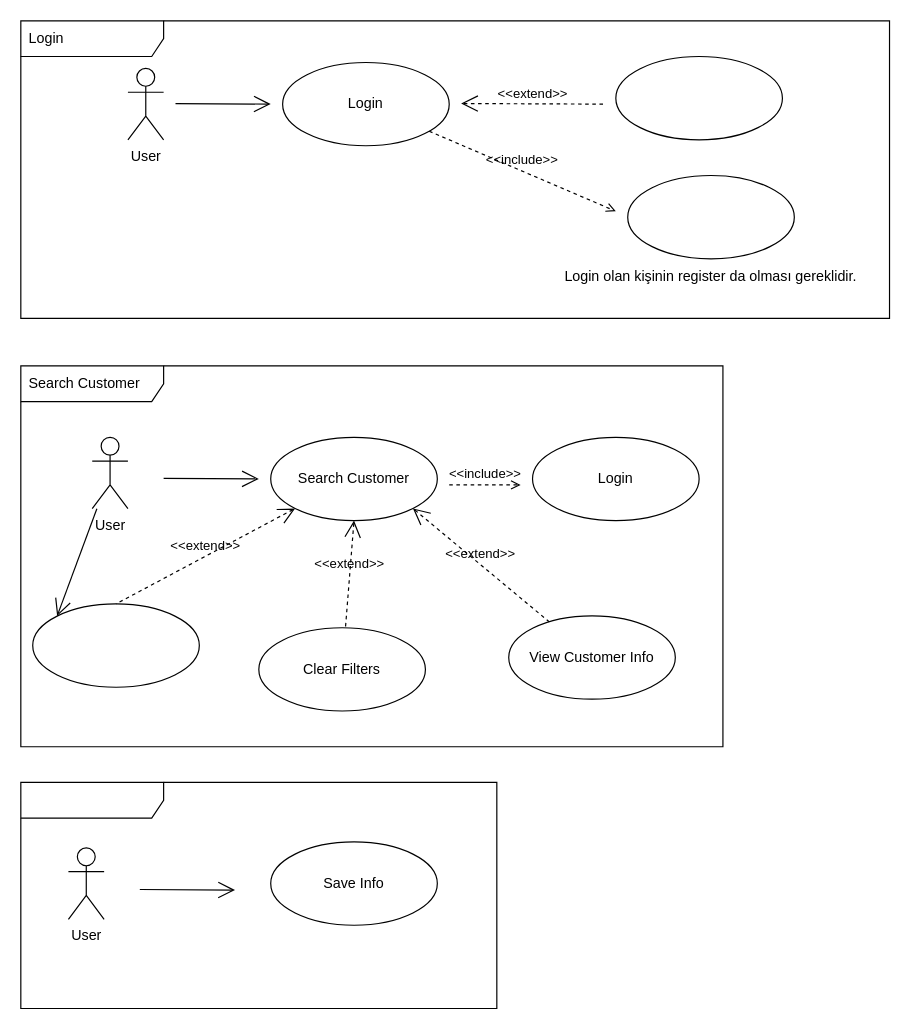
The diagram is 910 pixels wide and 1029 high, and some of its shapes have lost their labels. Here are the shapes that lost their labels. From the top down, the box of each, then its label:
(615, 55, 782, 140): Remember Me
(627, 174, 794, 259): Register
(32, 603, 199, 687): Create Customer
(20, 781, 497, 1009): Demografic Info
